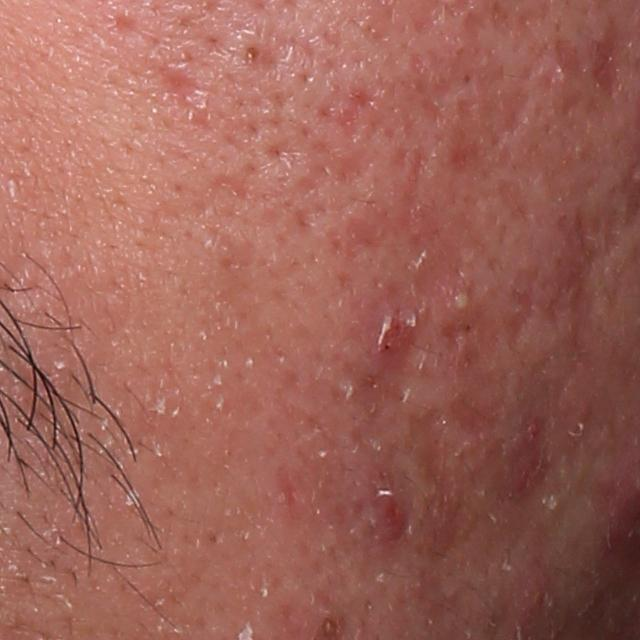atrophic_scar: (501, 212, 614, 349), (405, 409, 463, 566), (311, 69, 379, 181), (153, 65, 221, 125), (584, 13, 629, 95), (108, 10, 140, 43)
comedo: (240, 47, 266, 67)
pustule: (448, 292, 470, 315)
